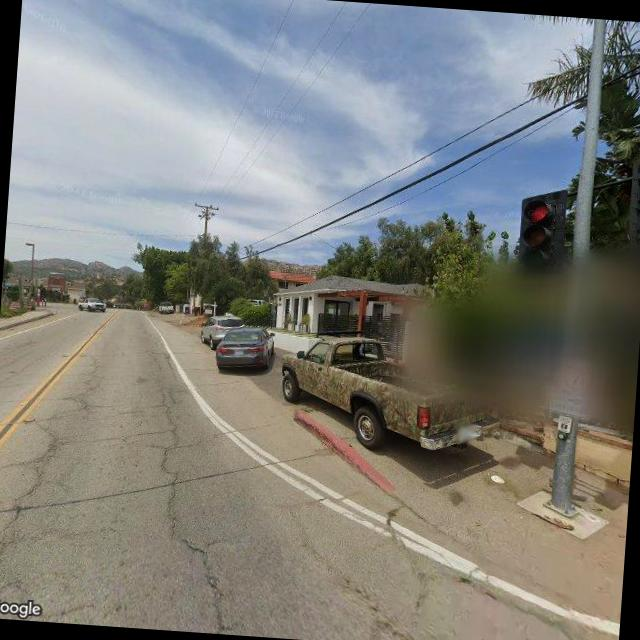crack: (0, 366, 267, 632)
